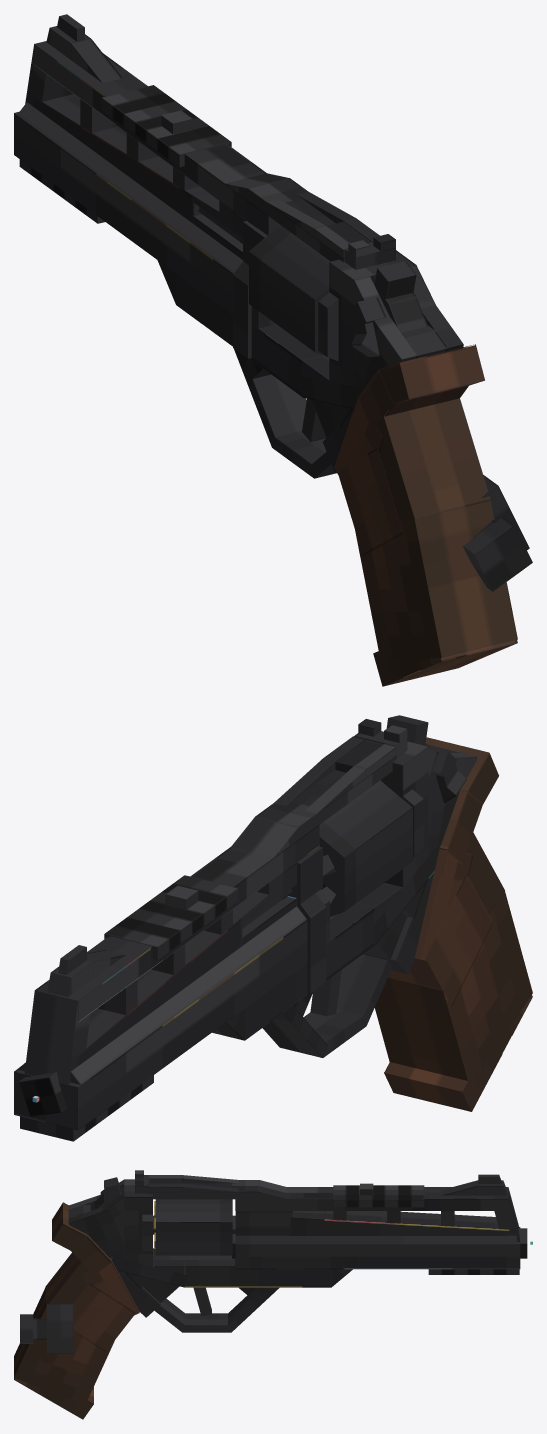
Rendered from rhino.fbx.
The picture shows the model from 3 angles, top to bottom: view 1: azimuth 30°, elevation 25°; view 2: azimuth 150°, elevation 25°; view 3: azimuth 270°, elevation 25°; orthographic projection. The views are drawn at different scales.
Visible parts, largest first — view 1: gun, bone, loader, chamber; view 2: gun, bone, chamber, rotatey, _cb_scope; view 3: gun, bone2, loader, bone4.
Boxes of the visible parts, <box> form: gun: <box>14,14,517,686</box>; bone: <box>249,225,330,352</box>; loader: <box>463,475,532,591</box>; chamber: <box>198,207,266,358</box>; gun: <box>14,715,532,1141</box>; bone: <box>319,780,412,911</box>; chamber: <box>242,846,326,993</box>; rotatey: <box>319,846,336,906</box>; _cb_scope: <box>165,885,198,909</box>; gun: <box>14,1170,527,1419</box>; bone2: <box>155,1199,232,1252</box>; loader: <box>20,1304,73,1353</box>; bone4: <box>155,1252,232,1255</box>.
Size of the model in its own units: 38.89 by 119 by 241.
